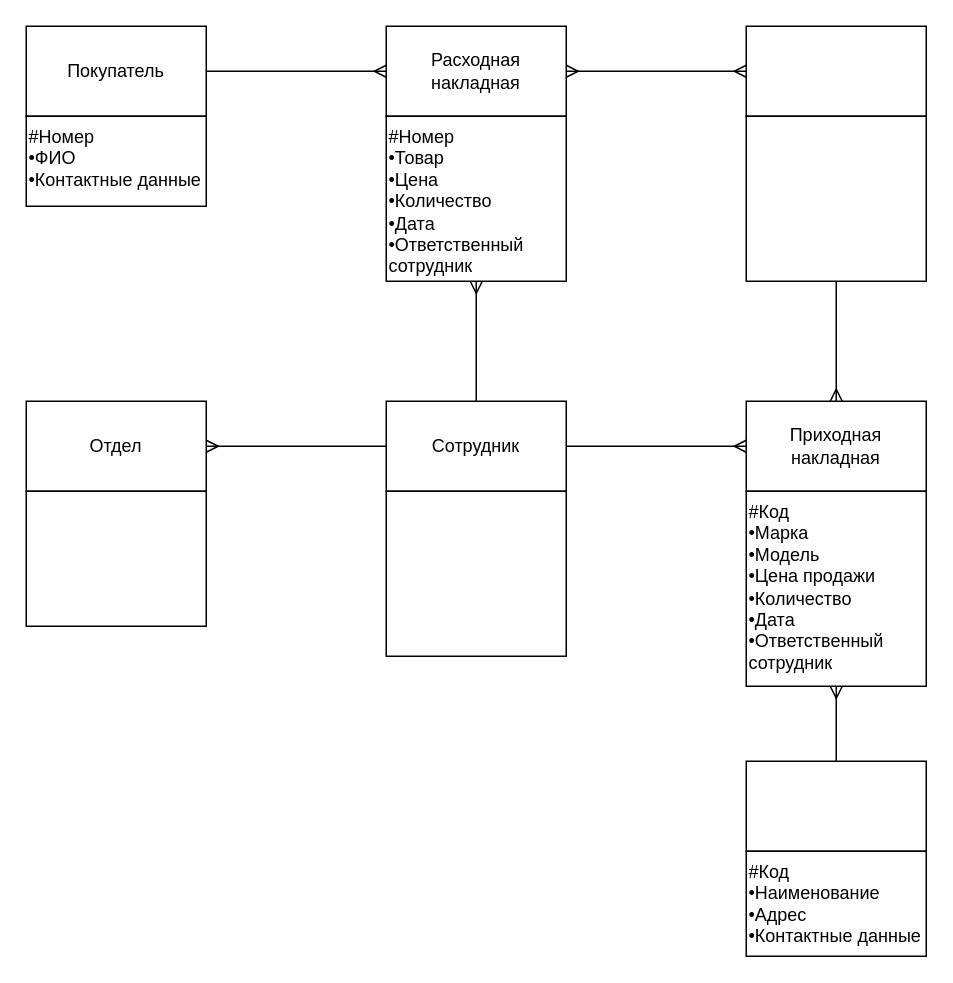
Image size: 953x983. Some labels were removed from this diagram. The shapes that lost their labels are listed below. From the top down, each one's centre as x and y in pixels, then its label:
At [835,70]: "Автомобили и прочее".
At [835,198]: "#Код •Марка •Модель •Цена продажи •Количество •Физ. характеристики".
At [115,558]: "#Код •Деятельность •Количество сотрудников •Руководитель".
At [475,573]: "#Код •ФИО •Пол •Дата рождения •Должность •Отдел •Документы".
At [835,805]: "Поставщик".
